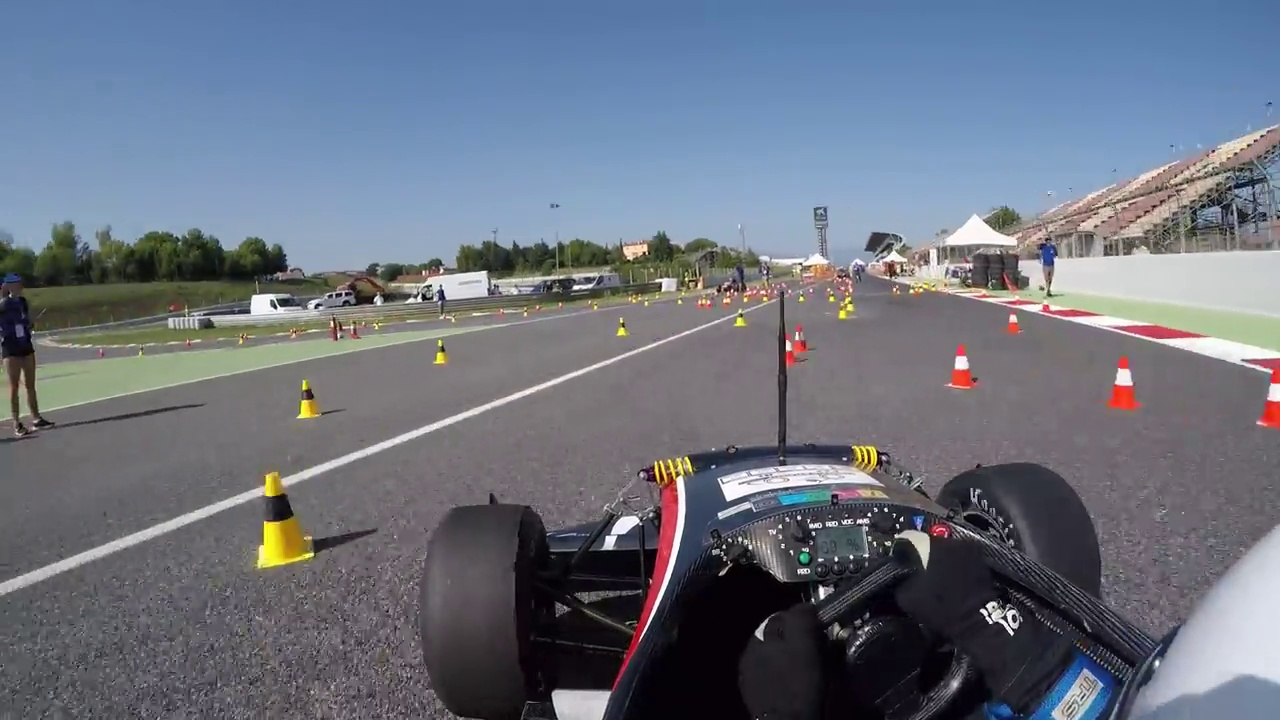Cone: (252, 472, 316, 568), (1102, 356, 1143, 412), (949, 340, 976, 391), (297, 377, 323, 420)
